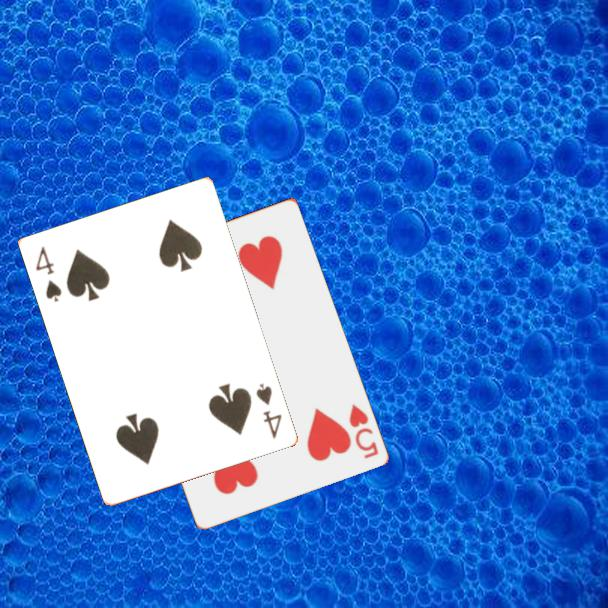h05: (345, 400, 381, 462)
s04: (32, 243, 65, 305), (253, 380, 285, 442)
